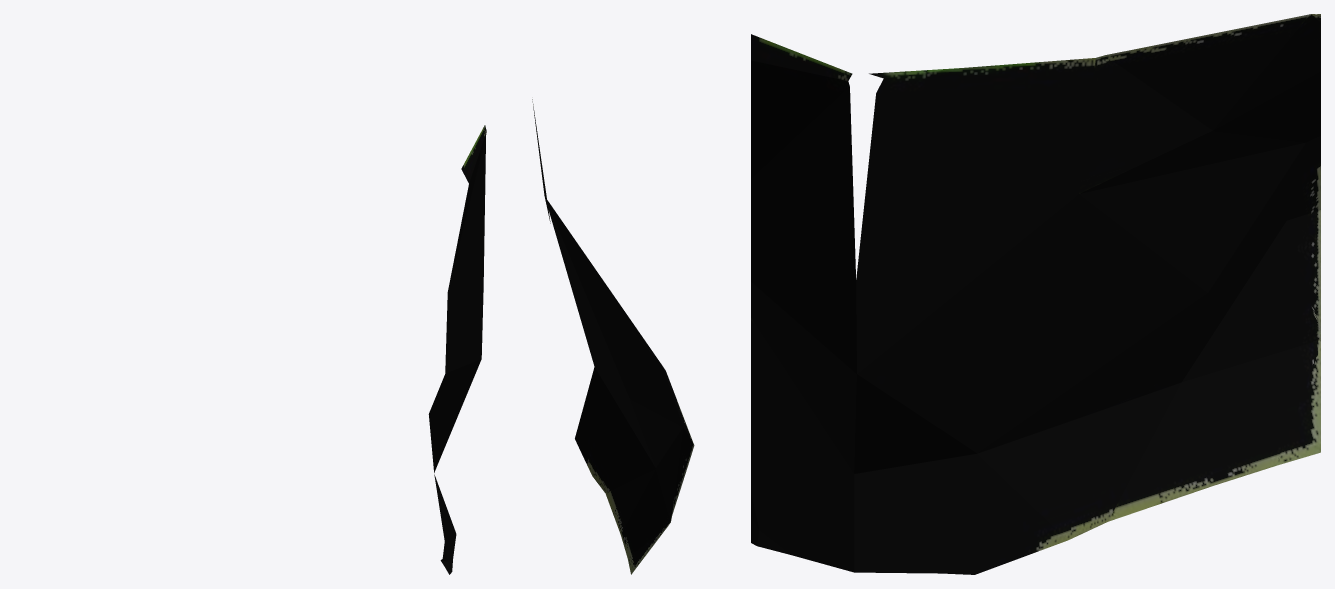
3 renders of one model, left to right at view 1: azimuth 30°, elevation 25°; view 2: azimuth 150°, elevation 25°; view 3: azimuth 270°, elevation 25°, orthographic. The views are drawn at different scales.
Size of the model in its own units: 4.41 by 5.9 by 5.9.
Materials: 3 (3 with a texture image).
